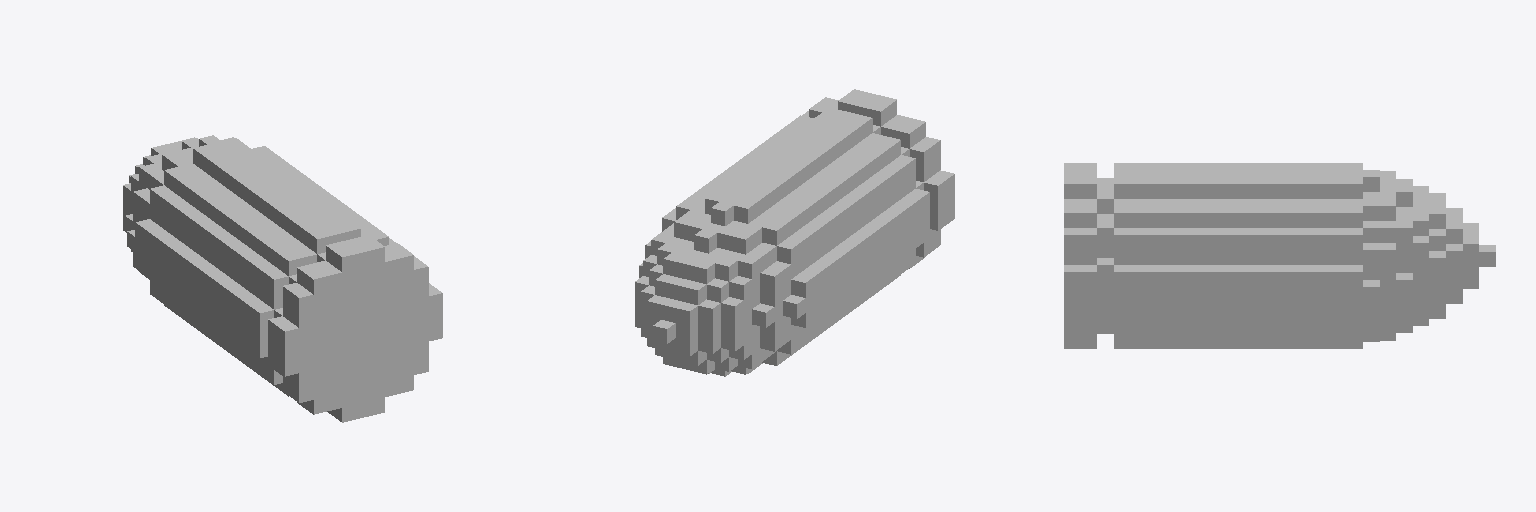
File: bullet.obj
3 renders of one model, left to right at view 1: azimuth 30°, elevation 25°; view 2: azimuth 150°, elevation 25°; view 3: azimuth 270°, elevation 25°, orthographic.
Visible parts, largest first — view 1: object 1; view 2: object 1; view 3: object 1.
Boxes of the visible parts, x1=… form: object 1: x1=123, y1=135, x2=442, y2=422; object 1: x1=635, y1=89, x2=954, y2=376; object 1: x1=1064, y1=163, x2=1495, y2=348.
Size of the model in its own units: 1.1 by 1.1 by 2.6.